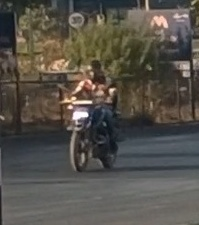BikeWithRider: (55, 56, 130, 174)
Helmet: (87, 57, 104, 81)
